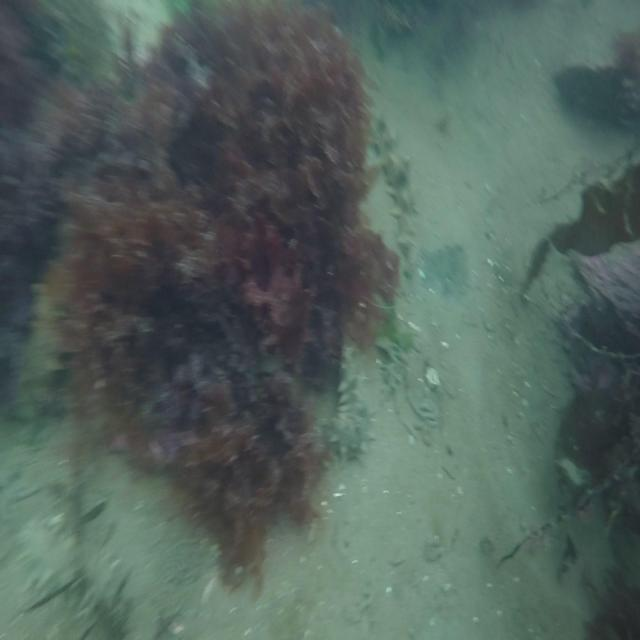holothurian: (311, 339, 378, 469), (16, 277, 69, 431), (368, 112, 422, 261)
